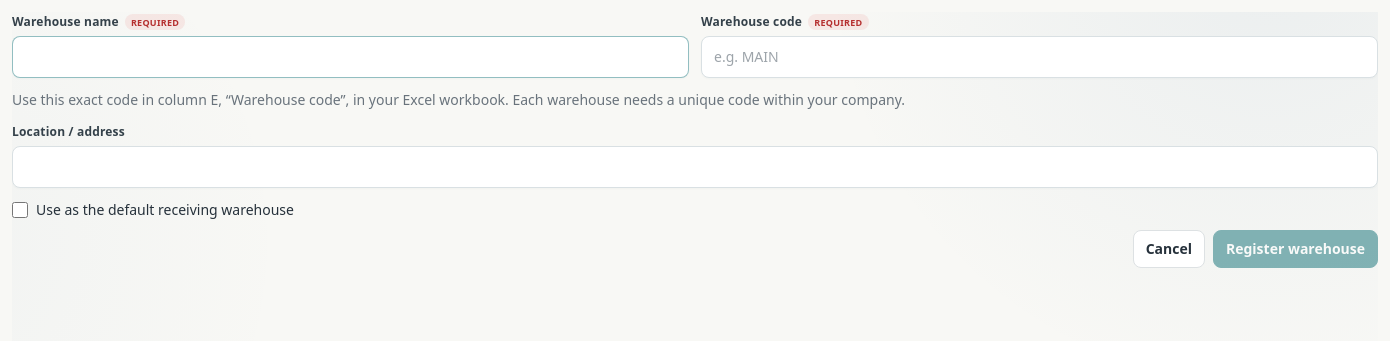
Test: Warehouse onboarding › keeps entered data and displays validation failure
Type "Main" into the field labelled "Warehouse name Required" at (350, 57), box x1=12 y1=36 x2=689 y2=78
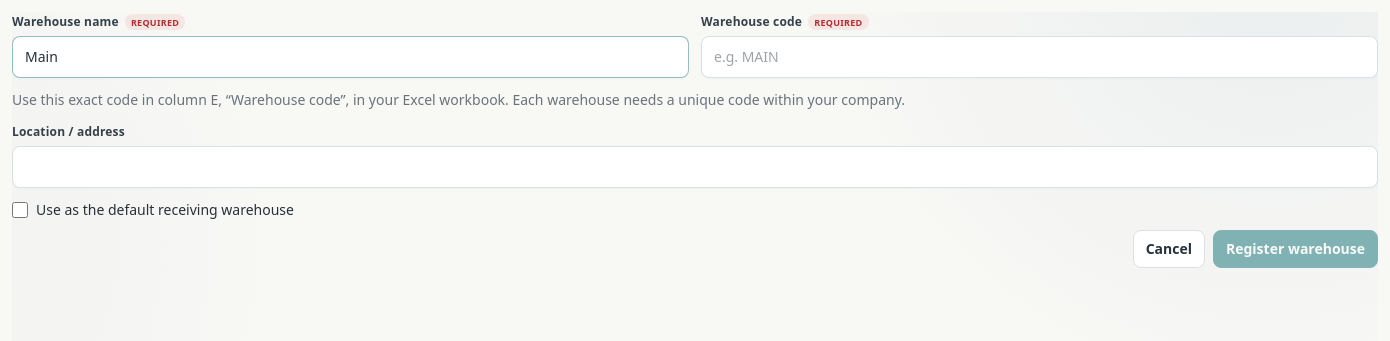
Type "MAIN" into the field labelled "Warehouse code Required" at (1040, 57), box x1=701 y1=36 x2=1378 y2=78
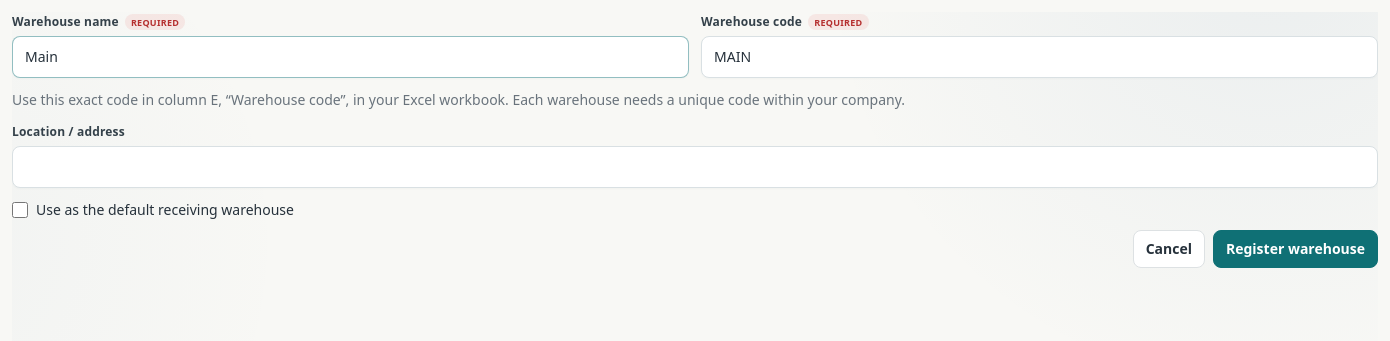
Click the button "Register warehouse" at (1296, 249), box x1=1213 y1=230 x2=1378 y2=268
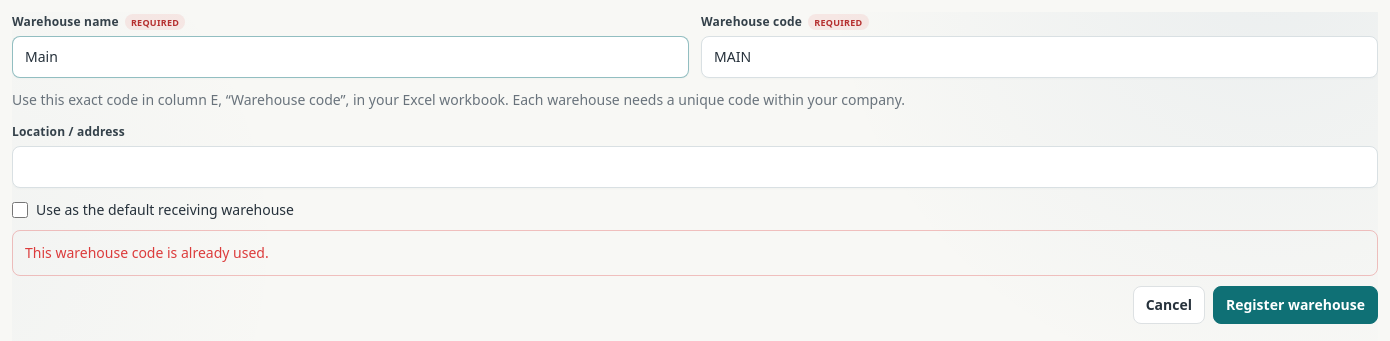
Check: the message shows "already used", box x1=25 y1=243 x2=269 y2=262
